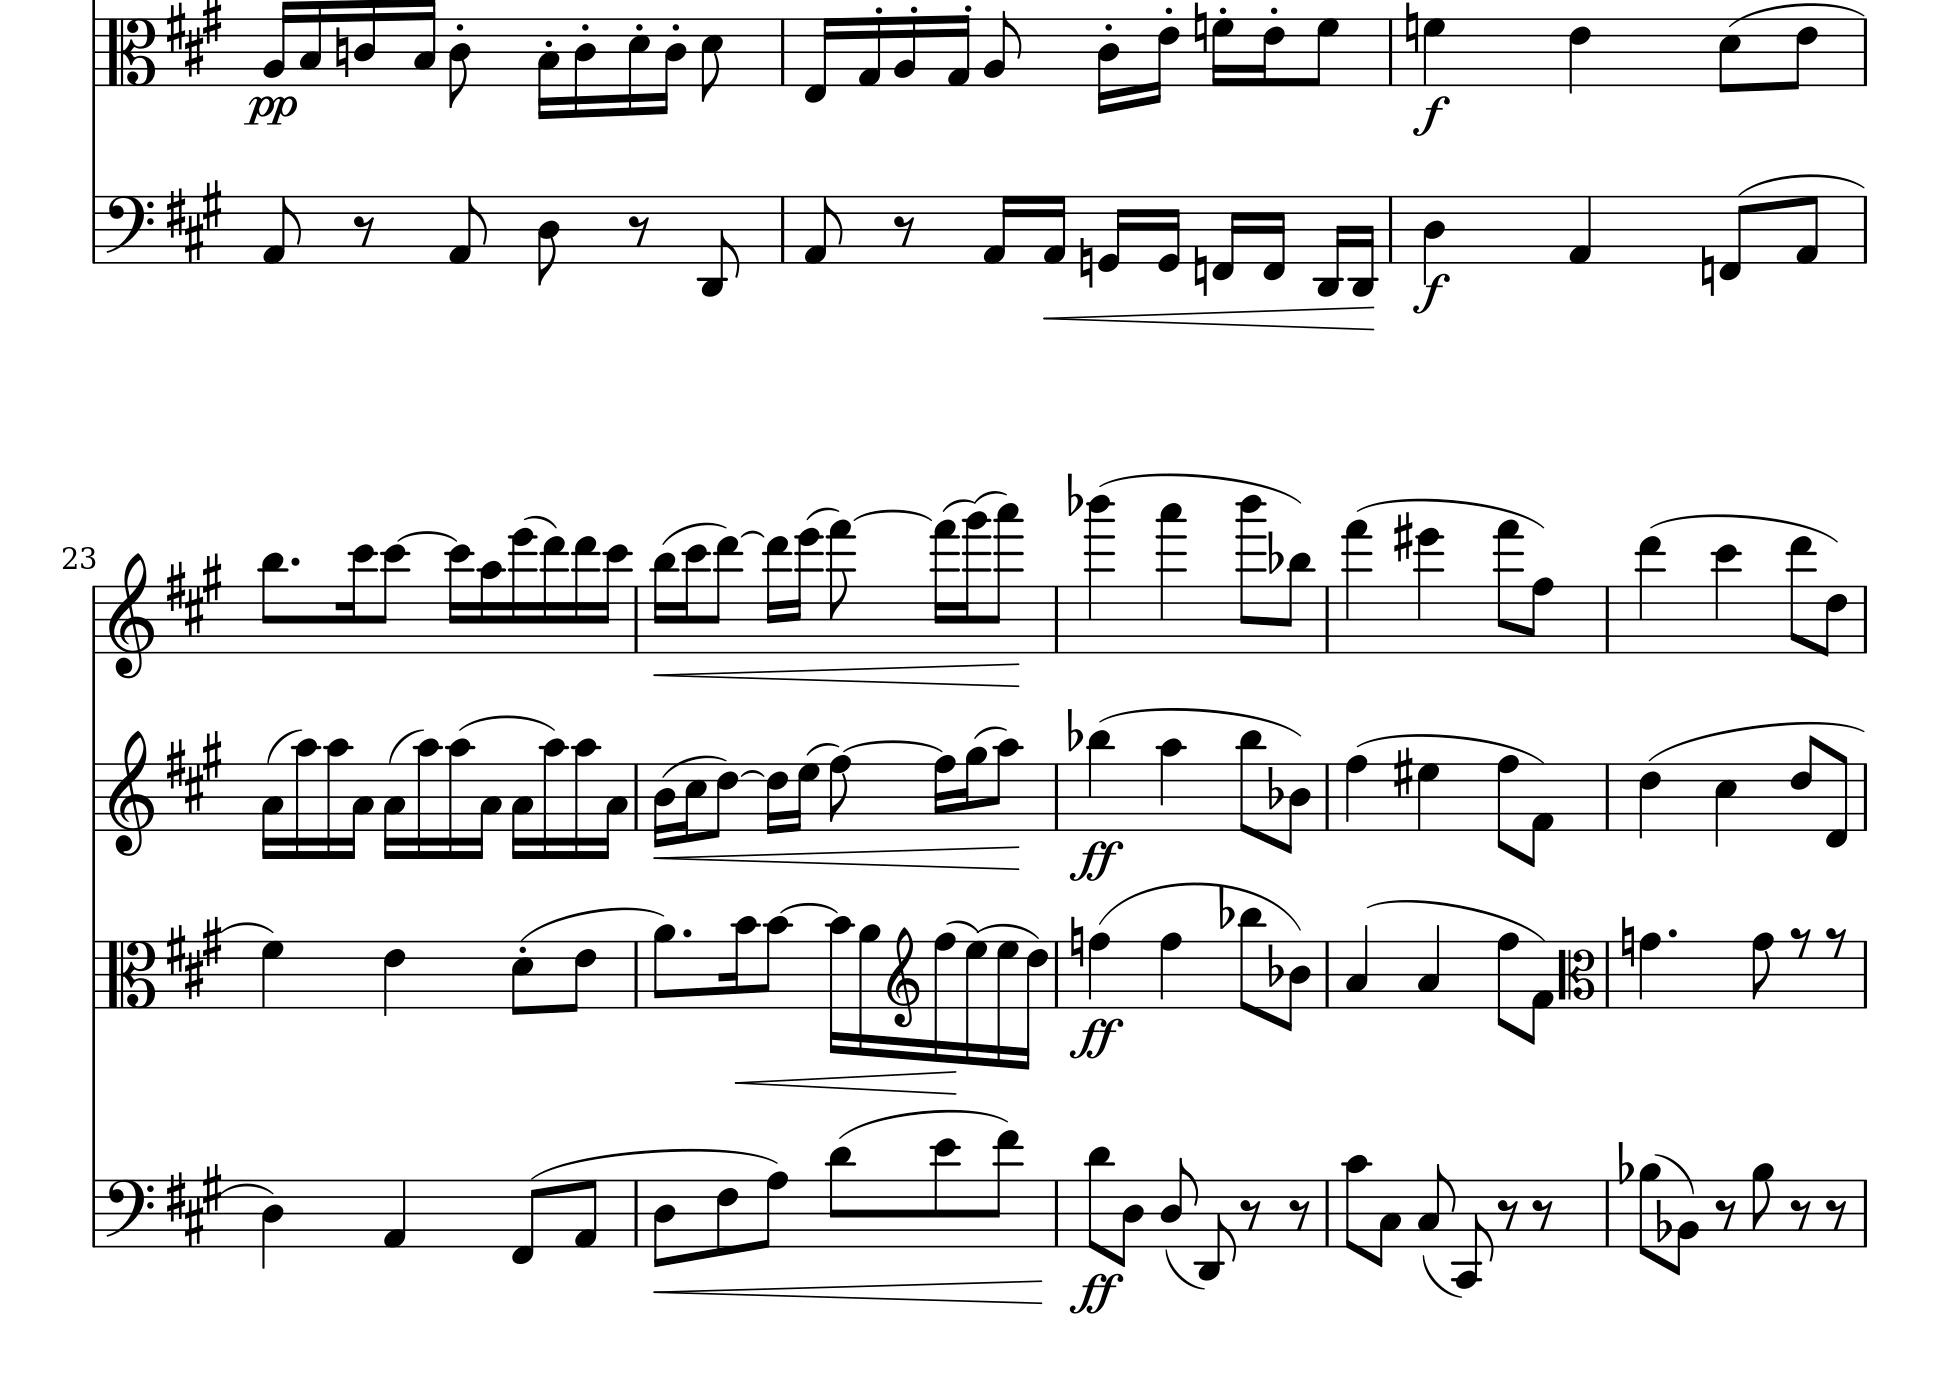16_-1: (802, 15, 835, 105), (1212, 193, 1243, 282), (1261, 193, 1287, 282)
16_-3: (1314, 193, 1347, 298), (1350, 193, 1377, 298)
16_0: (1096, 193, 1129, 274), (1155, 193, 1182, 274)
16_1: (981, 193, 1017, 265), (856, 13, 883, 88), (1041, 193, 1068, 265), (945, 13, 970, 88)
16_10: (826, 913, 855, 1056), (322, 736, 352, 859), (445, 736, 475, 859), (538, 739, 568, 859), (720, 913, 757, 1009), (292, 736, 321, 861), (571, 736, 600, 859), (415, 736, 442, 861), (477, 559, 505, 655)
16_11: (649, 550, 678, 655)
16_12: (337, 541, 375, 654), (598, 543, 631, 654), (676, 543, 708, 654), (445, 543, 474, 654)
16_13: (538, 532, 567, 652), (763, 534, 790, 654), (571, 535, 598, 654)
16_14: (790, 526, 820, 652), (508, 526, 535, 654)
16_15: (930, 520, 958, 652)
16_16: (957, 508, 990, 651)
16_2: (261, 1, 292, 85), (892, 13, 918, 88)
16_3: (472, 760, 502, 861), (600, 760, 628, 861), (346, 760, 373, 861), (535, 16, 561, 121), (259, 762, 283, 861), (382, 762, 406, 861), (510, 762, 534, 861), (298, 1, 322, 87), (412, 1, 436, 87)
16_4: (655, 16, 687, 117), (571, 16, 598, 121), (1095, 15, 1122, 115), (352, 1, 378, 85), (652, 760, 676, 847)
16_5: (625, 16, 651, 118), (679, 760, 706, 841)
16_6: (1017, 939, 1050, 1072), (1146, 16, 1180, 106), (1255, 16, 1285, 88), (763, 760, 789, 835)
16_7: (994, 939, 1020, 1069), (964, 940, 990, 1066), (790, 760, 820, 832), (1210, 16, 1236, 88)
16_8: (931, 928, 958, 1062), (931, 753, 955, 832)
16_9: (856, 919, 882, 1057), (957, 745, 987, 832)
2: (60, 544, 79, 571)
3: (79, 543, 97, 571)
4_1: (1567, 193, 1594, 265), (382, 1179, 408, 1249)
4_10: (1155, 736, 1188, 832)
4_11: (1086, 727, 1116, 832)
4_12: (1713, 541, 1743, 655)
4_13: (1636, 535, 1665, 657)
4_14: (1416, 526, 1443, 655)
4_15: (1342, 520, 1371, 655)
4_17: (1155, 502, 1188, 654)
4_18: (1084, 493, 1114, 655)
4_3: (1345, 924, 1371, 1009), (1416, 924, 1441, 1009)
4_4: (259, 1177, 283, 1270), (1422, 195, 1446, 274)
4_5: (1713, 762, 1740, 847)
4_6: (1567, 15, 1593, 96), (1638, 760, 1662, 841), (382, 939, 406, 1018)
4_7: (259, 937, 286, 1009), (1422, 16, 1449, 87), (1416, 760, 1441, 832)
4_8: (1158, 930, 1185, 1011), (1086, 930, 1113, 1009), (1344, 753, 1369, 834), (1638, 930, 1662, 1009)
8_-1: (508, 1179, 541, 1263), (1719, 193, 1750, 280), (1824, 750, 1849, 850)
8_-3: (1197, 1177, 1242, 1279), (699, 195, 739, 295)
8_-4: (1456, 1179, 1495, 1291)
8_1: (1527, 762, 1555, 868), (261, 195, 303, 265), (802, 195, 844, 265), (1527, 939, 1554, 1045), (447, 195, 487, 265), (1794, 193, 1821, 267), (573, 1177, 600, 1248)
8_10: (988, 736, 1023, 832), (759, 915, 792, 1012), (1339, 1153, 1371, 1255)
8_11: (1278, 550, 1314, 655), (1084, 1146, 1114, 1258), (823, 1146, 856, 1246), (1237, 727, 1264, 838), (1239, 906, 1266, 1014), (259, 550, 286, 654)
8_12: (376, 541, 409, 654), (930, 1137, 960, 1248)
8_13: (985, 1129, 1023, 1248), (708, 534, 742, 654), (1788, 534, 1816, 655)
8_15: (826, 519, 856, 654)
8_17: (990, 501, 1024, 654)
8_18: (1236, 493, 1266, 654)
8_2: (984, 10, 1023, 87), (1672, 1179, 1701, 1275)
8_3: (1417, 1164, 1459, 1249), (1371, 1179, 1402, 1269)
8_4: (1161, 1156, 1200, 1249), (1281, 763, 1312, 856), (1116, 1177, 1146, 1270), (1282, 940, 1311, 1033), (447, 16, 472, 109), (652, 1177, 676, 1270), (535, 195, 559, 286)
8_5: (699, 16, 724, 103), (508, 940, 535, 1018), (1717, 15, 1743, 96)
8_6: (1789, 733, 1819, 832), (564, 939, 597, 1015), (1786, 15, 1818, 91), (709, 760, 739, 838), (1819, 583, 1848, 658), (715, 1177, 739, 1257)
8_7: (1308, 16, 1341, 87)
8_8: (1494, 928, 1521, 1033), (1494, 753, 1521, 855), (1525, 574, 1554, 655), (760, 1170, 787, 1249), (826, 751, 852, 832), (1750, 930, 1776, 1009)
8_9: (1639, 1161, 1663, 1264), (651, 922, 676, 1009), (1752, 1162, 1776, 1249)
A_S: (163, 730, 223, 813), (166, 177, 223, 262), (163, 553, 222, 636), (163, 1162, 220, 1246), (163, 1, 223, 78)
Cclef: (105, 16, 157, 87), (105, 939, 157, 1009), (1557, 939, 1597, 1008)
Crescendo_hairpin: (654, 1279, 1044, 1305), (652, 661, 1020, 688), (1042, 304, 1374, 333), (652, 844, 1020, 870), (733, 1069, 954, 1095)
E_S: (163, 915, 222, 999)
Fclef: (105, 193, 156, 267), (103, 1177, 154, 1248)
Flat: (1065, 703, 1083, 751), (1266, 940, 1284, 988), (1065, 471, 1083, 517), (1216, 883, 1234, 930), (1266, 763, 1284, 810), (1617, 1138, 1635, 1185), (1266, 529, 1284, 574), (1656, 1198, 1672, 1243)
Gclef: (106, 729, 156, 856), (106, 550, 154, 679), (885, 925, 919, 1030)
Natural: (1068, 913, 1086, 970), (1699, 244, 1717, 298), (1620, 915, 1636, 970), (1402, 1, 1419, 55), (1078, 234, 1095, 288), (1192, 1, 1209, 54), (1192, 244, 1209, 297), (334, 24, 349, 79)
Rests8: (1239, 1195, 1263, 1231), (627, 213, 651, 247), (1531, 1197, 1555, 1231), (1288, 1195, 1311, 1231), (1714, 1195, 1737, 1231), (1789, 925, 1813, 958), (352, 213, 375, 247), (892, 213, 915, 247), (1497, 1197, 1519, 1231), (1825, 1195, 1848, 1230), (1825, 925, 1848, 958), (1791, 1195, 1812, 1230)
Sharp: (1392, 508, 1414, 562), (1392, 745, 1414, 799)
Single_barline: (772, 193, 793, 262), (85, 16, 103, 85), (774, 18, 792, 85), (1599, 762, 1617, 829), (85, 195, 102, 262), (1857, 1179, 1873, 1246), (1600, 585, 1617, 651), (85, 940, 102, 1006), (1857, 940, 1873, 1006), (628, 940, 645, 1006), (1383, 19, 1399, 84), (1857, 19, 1873, 84), (1857, 196, 1873, 261), (628, 586, 645, 651), (1048, 1180, 1065, 1245), (1857, 583, 1872, 652), (85, 585, 100, 654), (1383, 195, 1398, 262), (1320, 762, 1335, 829), (87, 763, 102, 831), (87, 1179, 102, 1246), (1320, 585, 1335, 651), (628, 763, 643, 829), (1050, 763, 1065, 829), (1050, 940, 1065, 1006), (1320, 940, 1335, 1006), (1599, 940, 1614, 1006), (1320, 1179, 1335, 1245), (628, 1180, 643, 1246), (1050, 586, 1065, 651), (1600, 1180, 1615, 1243), (1857, 762, 1870, 829)
Slur: (1647, 721, 1863, 762), (526, 1146, 777, 1180), (1368, 898, 1545, 943), (1104, 472, 1303, 505), (1357, 496, 1545, 531), (1651, 513, 1839, 544), (1359, 732, 1543, 763), (1101, 708, 1302, 735), (517, 909, 666, 942), (837, 1110, 1005, 1138), (1731, 1, 1863, 27), (1740, 172, 1864, 193), (1161, 1248, 1212, 1290), (1420, 1252, 1465, 1297), (457, 712, 556, 732), (1653, 1152, 1698, 1192), (658, 520, 729, 544), (658, 753, 727, 777), (384, 727, 427, 763), (841, 738, 943, 753), (262, 727, 306, 762), (852, 508, 934, 522), (976, 921, 1041, 937), (220, 1180, 274, 1198), (394, 529, 459, 543), (220, 919, 276, 934), (778, 900, 840, 913), (973, 489, 1009, 504), (940, 496, 976, 511), (805, 505, 841, 520), (523, 514, 559, 529), (973, 724, 1008, 739), (945, 918, 978, 933), (805, 741, 838, 754), (739, 529, 766, 538), (739, 769, 766, 778)
dot: (288, 553, 301, 568), (679, 925, 693, 940), (1665, 925, 1678, 939)
f: (1411, 94, 1452, 136), (1411, 273, 1452, 315)
ff: (1068, 1270, 1123, 1317), (1068, 838, 1125, 882), (1068, 1017, 1125, 1060)
pp: (243, 93, 295, 127)
